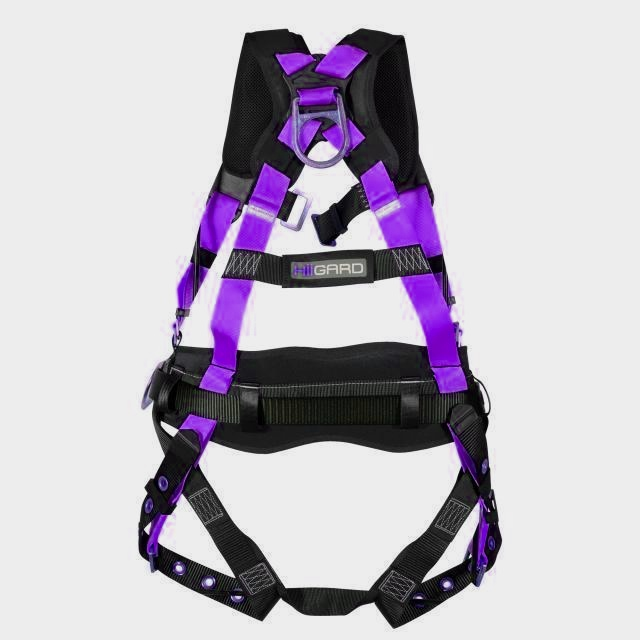safety belt: (136, 45, 548, 612)
